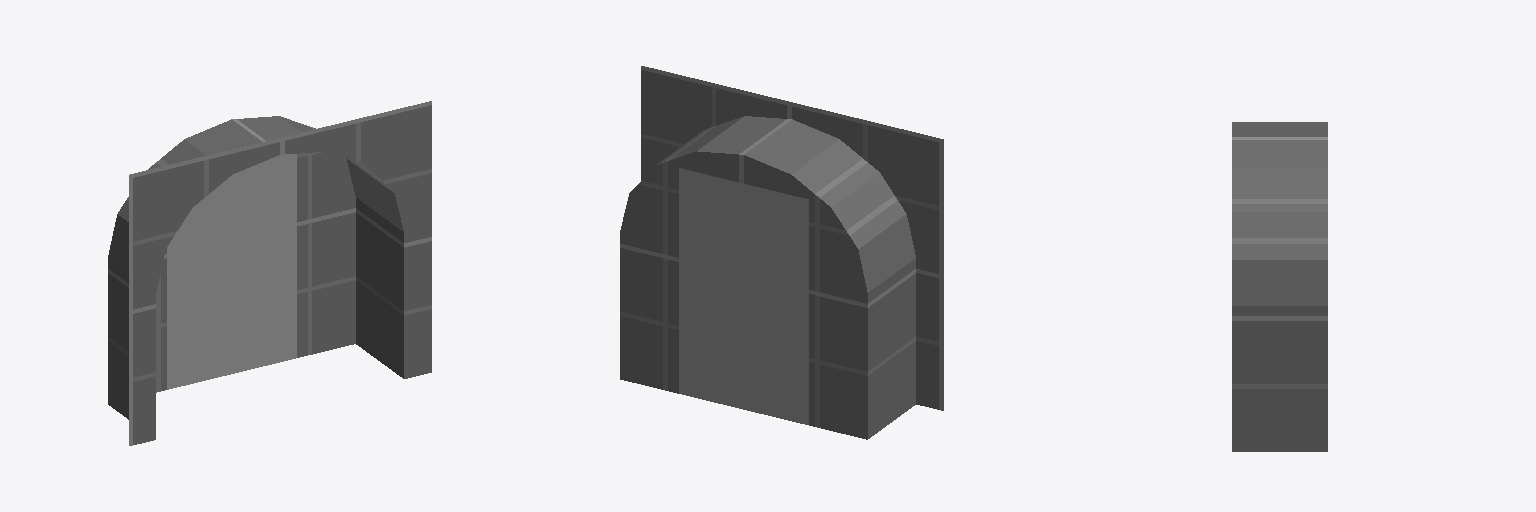
3 renders of one model, left to right at view 1: azimuth 30°, elevation 25°; view 2: azimuth 150°, elevation 25°; view 3: azimuth 270°, elevation 25°, orthographic.
Visible parts, largest first — view 1: Cube.001; view 2: Cube.001; view 3: Cube.001.
Part boxes in pixels (x1,y1,x2,y2): Cube.001: (108,101,431,445); Cube.001: (620,66,943,439); Cube.001: (1232,122,1327,451).
Size of the model in its own units: 112 by 96 by 31.
3 materials, 1 textured.